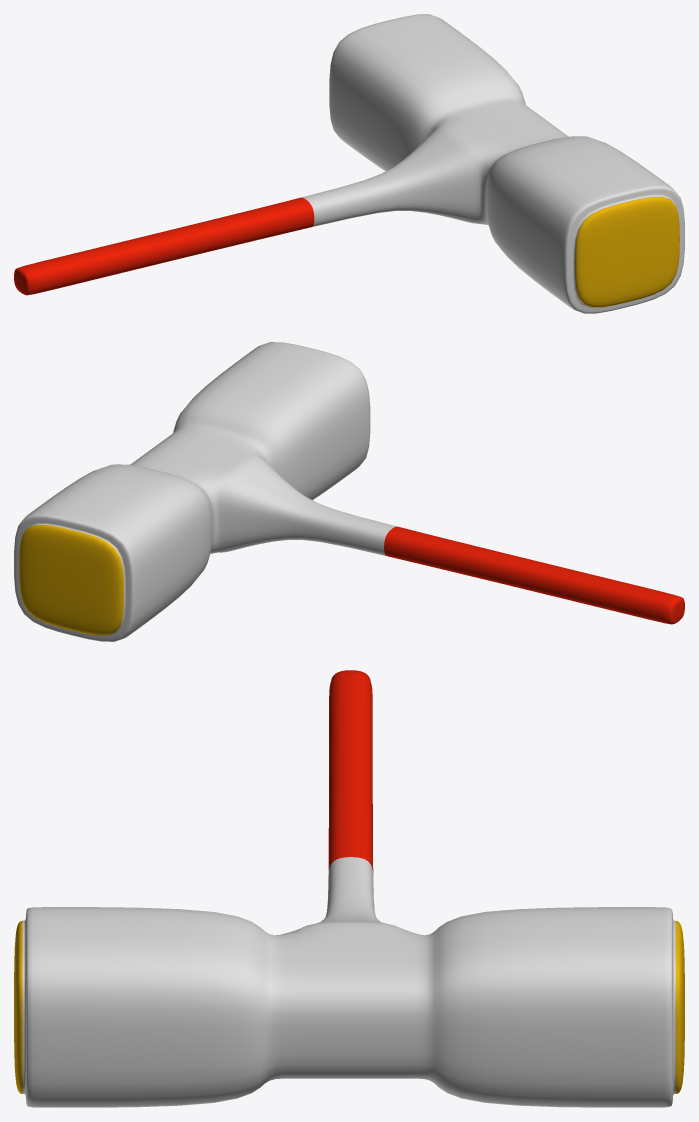
The model's file is Molot.fbx.
3 renders of one model, top to bottom at view 1: azimuth 30°, elevation 25°; view 2: azimuth 150°, elevation 25°; view 3: azimuth 270°, elevation 25°, orthographic. The views are drawn at different scales.
Parts seen in each view (by area): view 1: Cube; view 2: Cube; view 3: Cube.
Boxes of the visible parts, x1,y1,x2,y2 form: Cube: [14, 14, 684, 313]; Cube: [14, 342, 684, 641]; Cube: [14, 670, 684, 1107].
Size of the model in its own units: 196 by 39.65 by 153.
